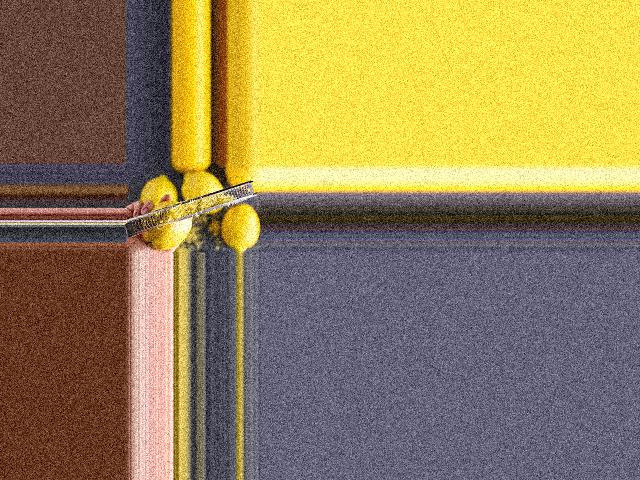lemon: (213, 204, 259, 251)
